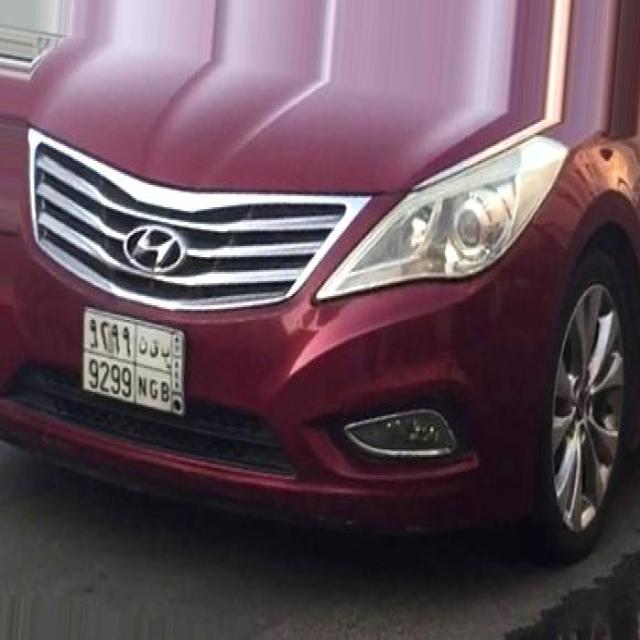Car-plate: (59, 288, 201, 444)
